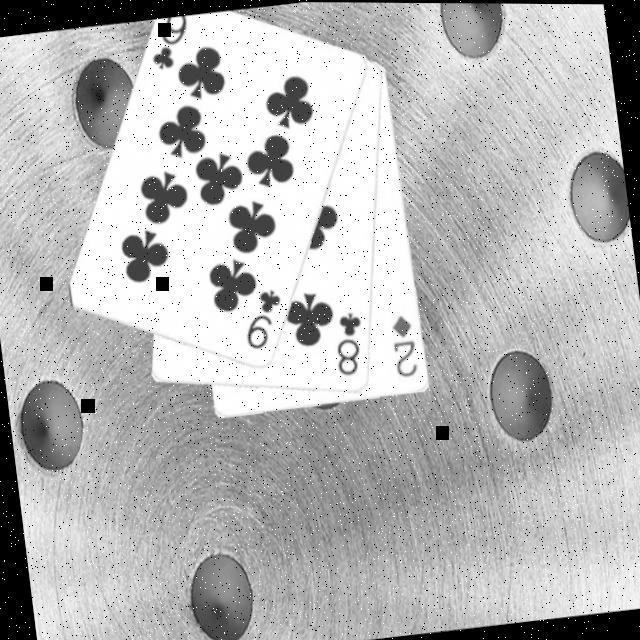2D: (386, 309, 422, 380)
8C: (326, 306, 370, 379)
9C: (234, 283, 288, 353), (142, 15, 194, 73)
